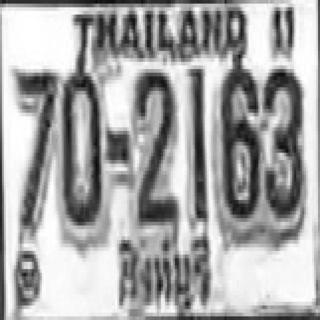N00: (60, 64, 101, 224)
N01: (187, 67, 205, 220), (189, 67, 205, 220), (189, 67, 205, 216)
N02: (135, 69, 175, 222)
N03: (263, 66, 303, 222)
N06: (219, 64, 258, 216)
N07: (13, 67, 57, 231)
P62: (115, 229, 211, 320)
